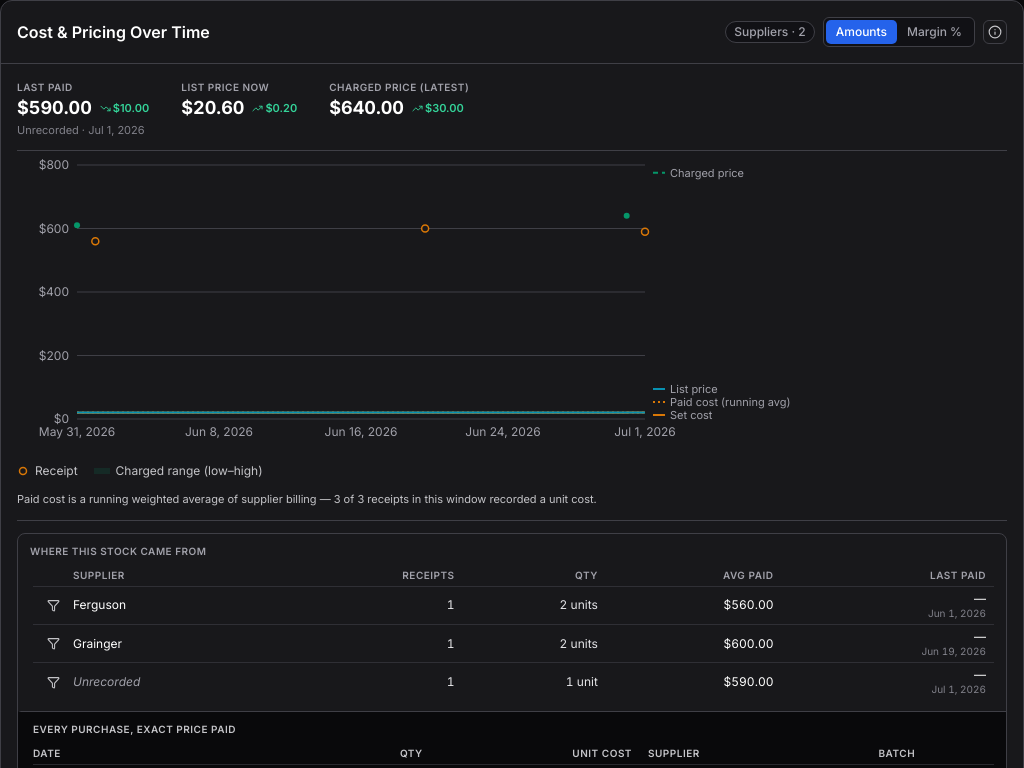
Test case: CostPriceTrendChart › supplier origin › clicking a vendor's filter button filters the purchase ledger to just their purchases
The width and height of the screenshot is (1024, 768).
Click the button named "Show only Ferguson". click: (53, 606)
box: [41,594,65,618]
(page scrolled)
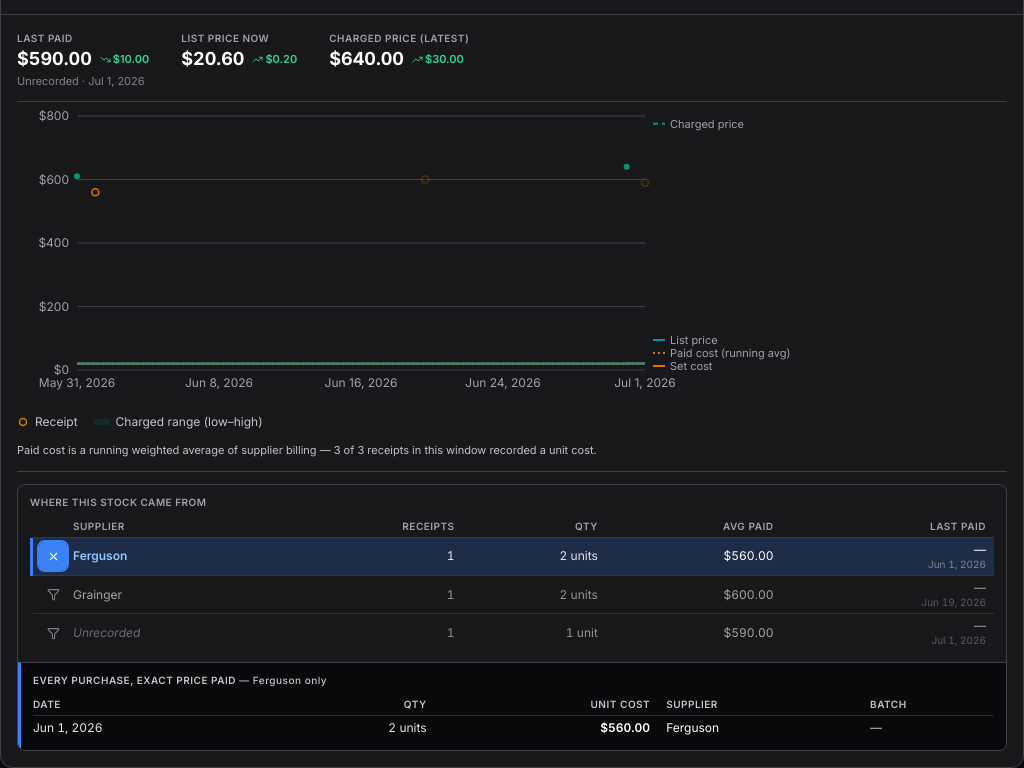
Expected: the text "Ferguson" below "Batch" is shown, [666,720,719,735]
Now the text "Every purchase, exact price paid" shows "Ferguson only", box [33,674,327,686]
